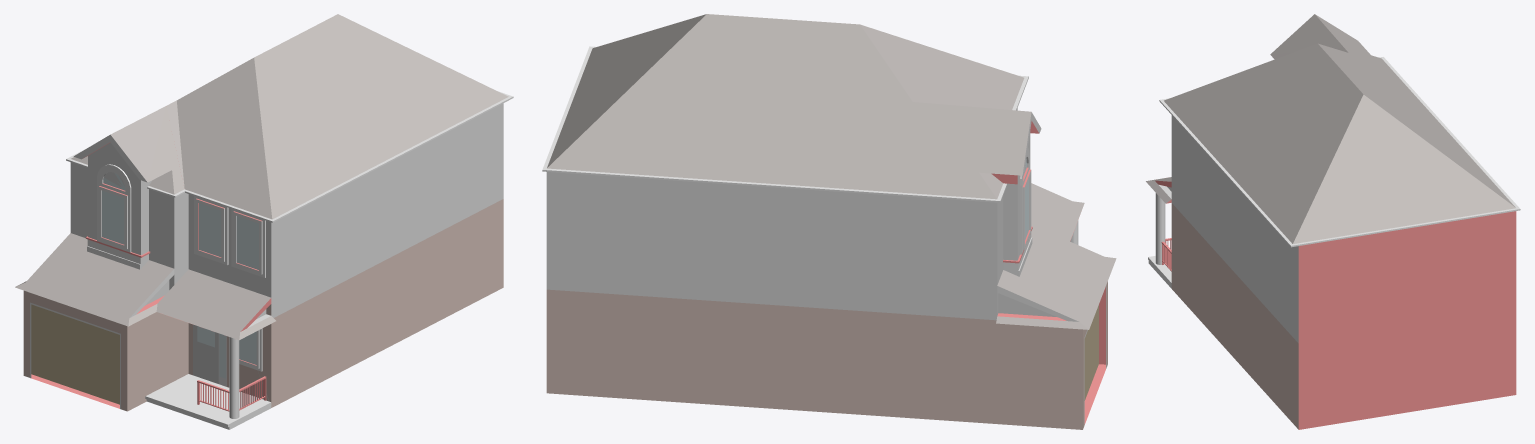
The model's file is house-skp.glb.
The picture shows the model from 3 angles, left to right: view 1: azimuth 30°, elevation 25°; view 2: azimuth 150°, elevation 25°; view 3: azimuth 270°, elevation 25°; orthographic projection. The views are drawn at different scales.
Visible parts, largest first — view 1: mesh_2_ROOT__Group159_Layer0_135_127_123_ss, mesh_4_ROOT__Group159_Layer0_207_207_207_ss, mesh_6_ROOT__Group159_Layer0_190_153_140_ss, mesh_5_ROOT__Group159_Layer0_229_229_229_ss, mesh_7_ROOT__Group159_Layer0_166_141_95_ss, mesh_20_ROOT__Group159__组#1_Layer0_229_229_229_ss, mesh_22_ROOT__Group159__组#1_Layer0_204_235_244_ds, mesh_14_ROOT__Group159__组#3_Layer0_204_235_244_ds, mesh_18_ROOT__Group159__组#2_Layer0_204_235_244_ds, mesh_10_ROOT__Group159_Layer0_179_179_179_ss, mesh_16_ROOT__Group159__组#2_Layer0_229_229_229_ss, mesh_12_ROOT__Group159__组#3_Layer0_229_229_229_ss (+5 smaller); view 2: mesh_2_ROOT__Group159_Layer0_135_127_123_ss, mesh_6_ROOT__Group159_Layer0_190_153_140_ss, mesh_4_ROOT__Group159_Layer0_207_207_207_ss, mesh_5_ROOT__Group159_Layer0_229_229_229_ss, mesh_1_ROOT__Group159_Layer0_255_84_84_ds, mesh_7_ROOT__Group159_Layer0_166_141_95_ss, mesh_20_ROOT__Group159__组#1_Layer0_229_229_229_ss; view 3: mesh_2_ROOT__Group159_Layer0_135_127_123_ss, mesh_1_ROOT__Group159_Layer0_255_84_84_ds, mesh_4_ROOT__Group159_Layer0_207_207_207_ss, mesh_6_ROOT__Group159_Layer0_190_153_140_ss, mesh_5_ROOT__Group159_Layer0_229_229_229_ss.
Part boxes in pixels (left/top/right/bottom): mesh_2_ROOT__Group159_Layer0_135_127_123_ss: left=15, top=14, right=508, bottom=340; mesh_4_ROOT__Group159_Layer0_207_207_207_ss: left=70, top=103, right=503, bottom=401; mesh_6_ROOT__Group159_Layer0_190_153_140_ss: left=23, top=199, right=503, bottom=411; mesh_5_ROOT__Group159_Layer0_229_229_229_ss: left=30, top=91, right=513, bottom=429; mesh_7_ROOT__Group159_Layer0_166_141_95_ss: left=31, top=304, right=119, bottom=404; mesh_20_ROOT__Group159__组#1_Layer0_229_229_229_ss: left=97, top=164, right=131, bottom=252; mesh_22_ROOT__Group159__组#1_Layer0_204_235_244_ds: left=102, top=173, right=125, bottom=244; mesh_14_ROOT__Group159__组#3_Layer0_204_235_244_ds: left=236, top=216, right=258, bottom=269; mesh_18_ROOT__Group159__组#2_Layer0_204_235_244_ds: left=199, top=203, right=221, bottom=257; mesh_10_ROOT__Group159_Layer0_179_179_179_ss: left=193, top=324, right=218, bottom=383; mesh_16_ROOT__Group159__组#2_Layer0_229_229_229_ss: left=194, top=196, right=228, bottom=265; mesh_12_ROOT__Group159__组#3_Layer0_229_229_229_ss: left=231, top=209, right=265, bottom=277; mesh_2_ROOT__Group159_Layer0_135_127_123_ss: left=547, top=14, right=1116, bottom=329; mesh_6_ROOT__Group159_Layer0_190_153_140_ss: left=546, top=281, right=1107, bottom=429; mesh_4_ROOT__Group159_Layer0_207_207_207_ss: left=546, top=131, right=1056, bottom=320; mesh_5_ROOT__Group159_Layer0_229_229_229_ss: left=542, top=46, right=1106, bottom=425; mesh_1_ROOT__Group159_Layer0_255_84_84_ds: left=991, top=121, right=1105, bottom=424; mesh_7_ROOT__Group159_Layer0_166_141_95_ss: left=1084, top=305, right=1098, bottom=400; mesh_20_ROOT__Group159__组#1_Layer0_229_229_229_ss: left=1020, top=147, right=1031, bottom=254; mesh_2_ROOT__Group159_Layer0_135_127_123_ss: left=1146, top=14, right=1515, bottom=243; mesh_1_ROOT__Group159_Layer0_255_84_84_ds: left=1155, top=180, right=1516, bottom=429; mesh_4_ROOT__Group159_Layer0_207_207_207_ss: left=1159, top=115, right=1298, bottom=343; mesh_6_ROOT__Group159_Layer0_190_153_140_ss: left=1171, top=203, right=1298, bottom=429; mesh_5_ROOT__Group159_Layer0_229_229_229_ss: left=1148, top=57, right=1520, bottom=288.
Size of the model in its own units: 16374 by 9500 by 11832.
